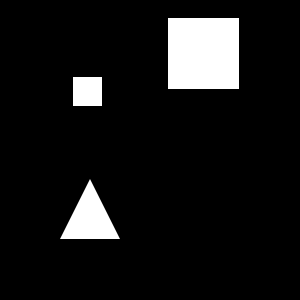circle: (168, 18, 239, 89), (73, 77, 102, 106)
triangle: (60, 179, 120, 239)
